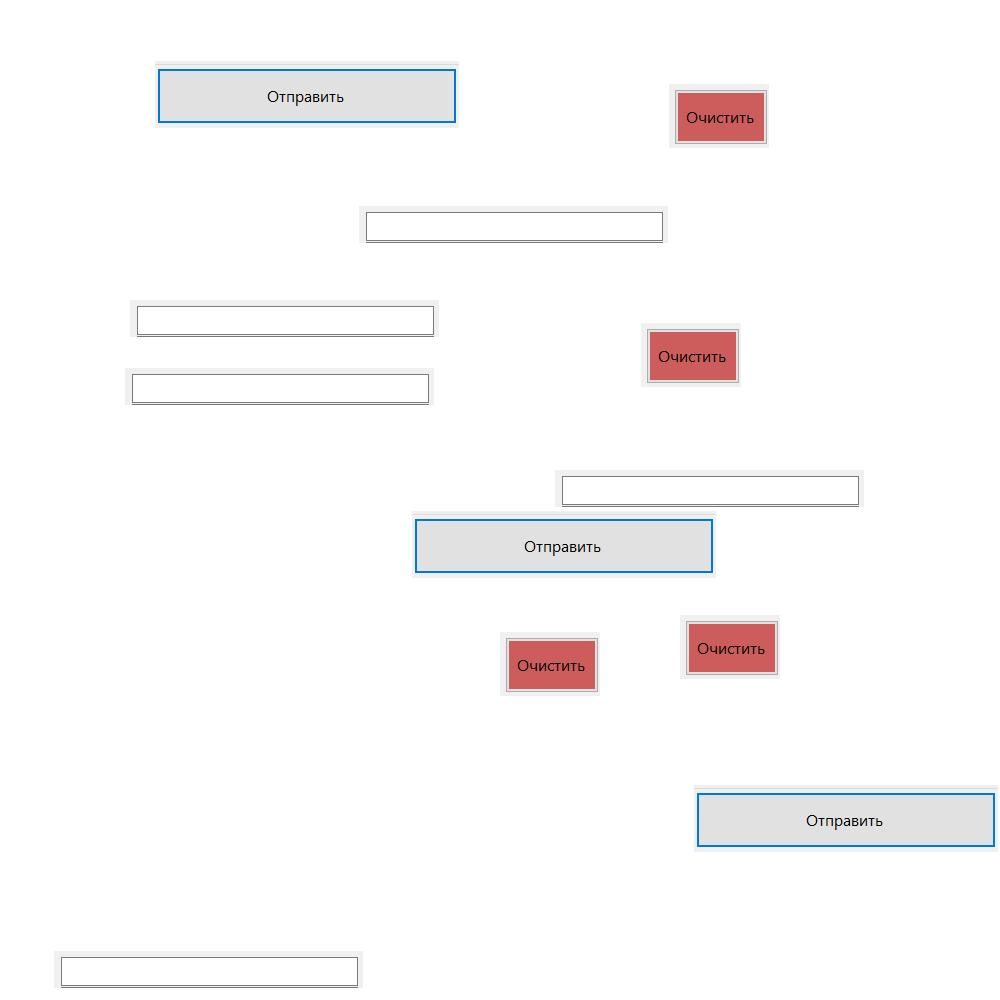Button: (155, 61, 459, 128), (412, 511, 716, 578), (694, 785, 998, 852), (641, 323, 741, 387), (500, 632, 600, 696), (669, 84, 769, 148), (680, 615, 780, 679)
EditText-: (130, 300, 439, 337), (54, 951, 363, 988), (125, 368, 434, 405), (359, 206, 668, 243), (555, 470, 864, 507)
